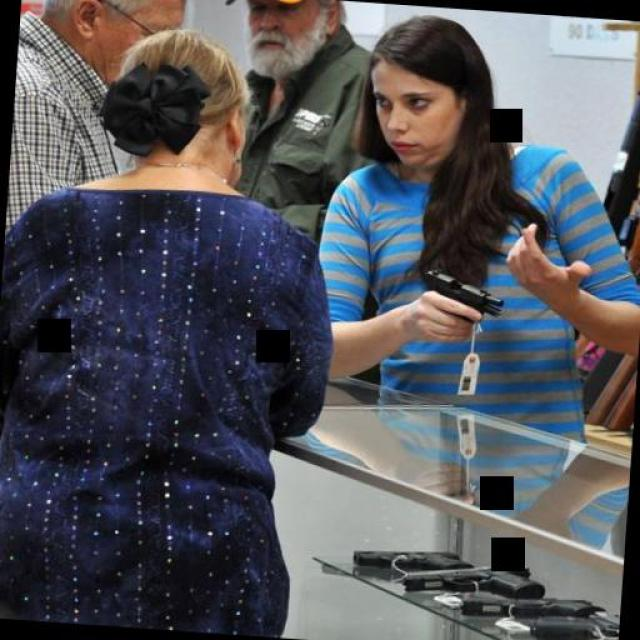gun: (457, 579, 605, 630), (400, 555, 545, 607), (416, 266, 504, 338), (347, 538, 475, 578)
